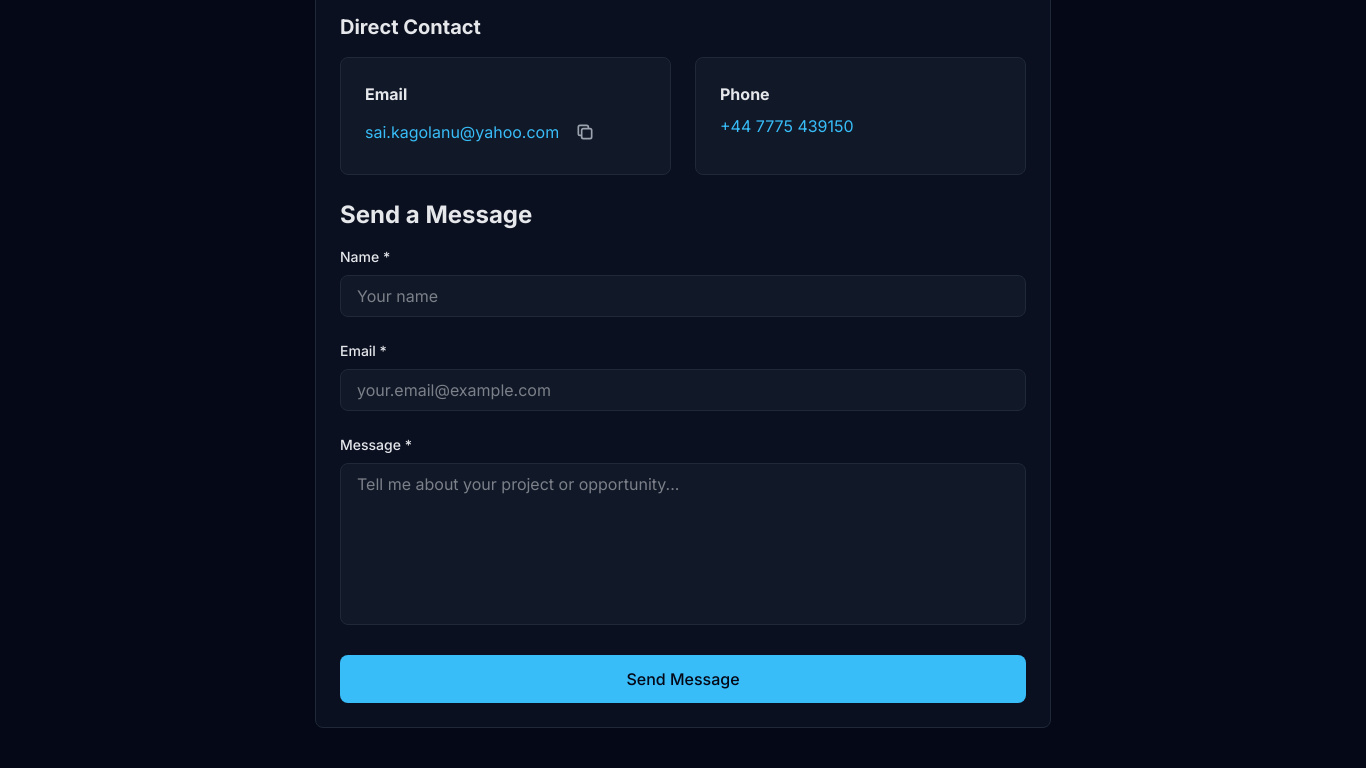
Test case: Contact Page › validates fields on submission
(page scrolled)
Click the button "Send Message": (683, 679) [340,655,1026,703]
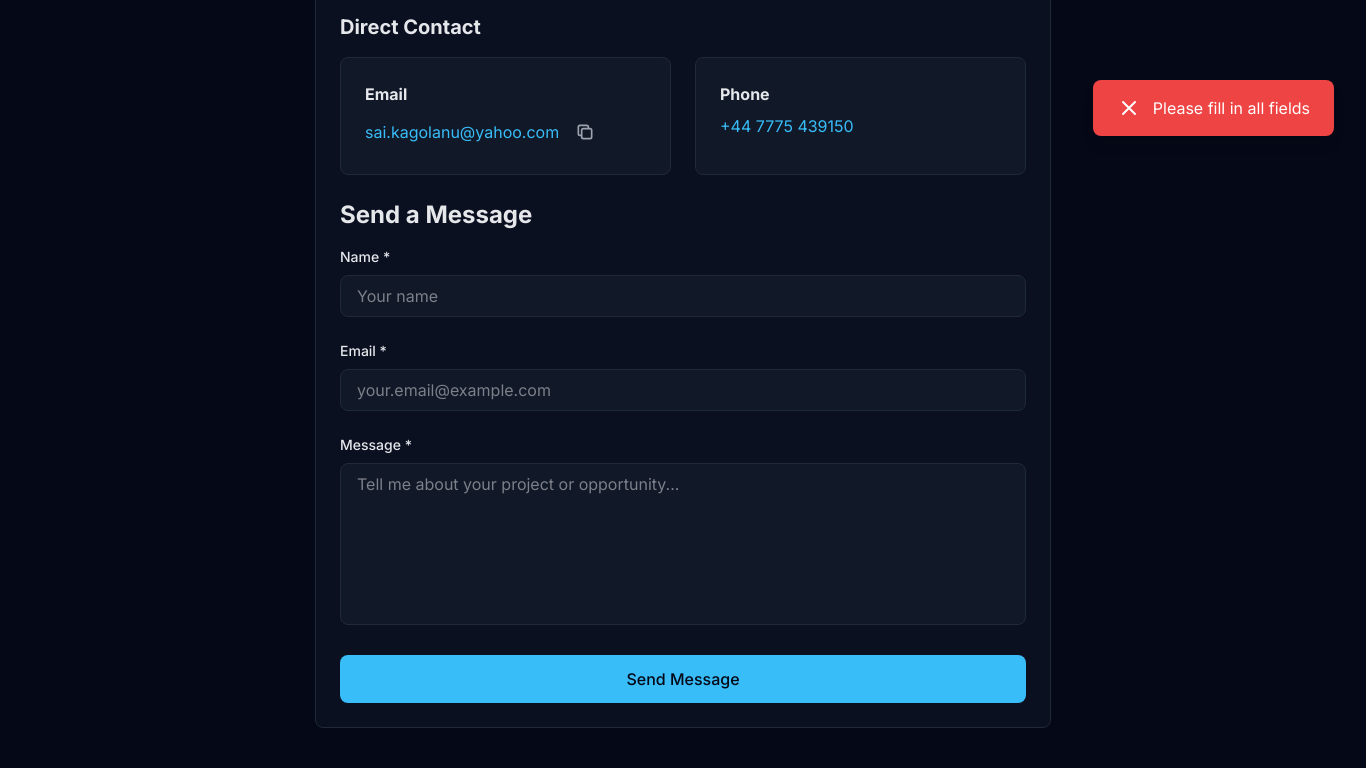
Result: the text "Please fill in all fields" is shown at [1153,96,1310,120]
